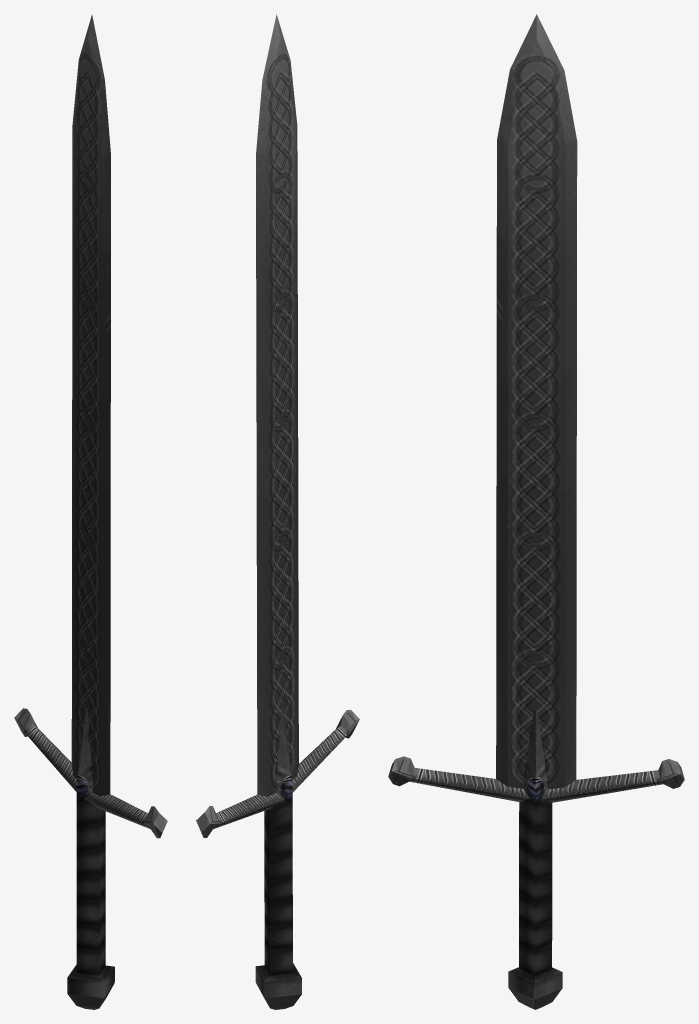
File: sword3.FBX
3 views of the same model, side by side, from view 1: azimuth 30°, elevation 25°; view 2: azimuth 150°, elevation 25°; view 3: azimuth 270°, elevation 25° (orthographic).
Parts seen in each view (by area): view 1: Cylinder003; view 2: Cylinder003; view 3: Cylinder003.
Boxes of the visible parts, box(x1,y1,x2,y2) form: Cylinder003: box(14, 14, 167, 1009); Cylinder003: box(196, 14, 359, 1009); Cylinder003: box(388, 14, 684, 1009).
Size of the model in its own units: 11.33 by 61.96 by 229.
